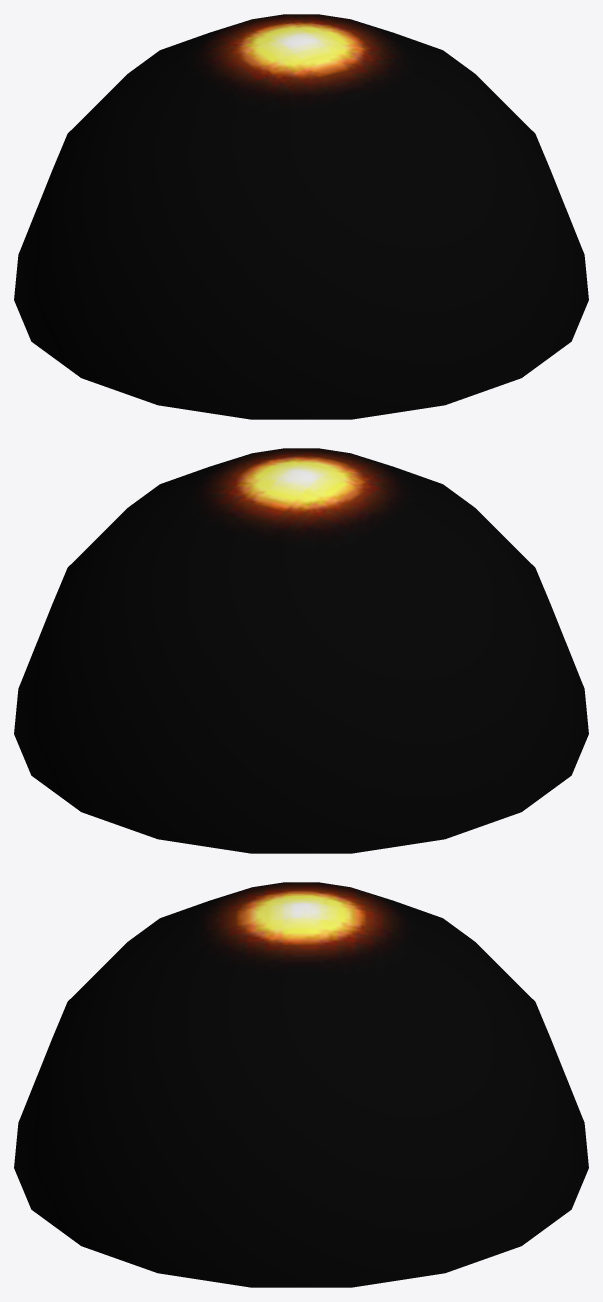
File: 0046_HT_FX_HN_modle_banyuan_01.glb
3 renders of one model, top to bottom at view 1: azimuth 30°, elevation 25°; view 2: azimuth 150°, elevation 25°; view 3: azimuth 270°, elevation 25°, orthographic.
Size of the model in its own units: 2.17 by 1.1 by 2.2.
1 material, 1 textured.
